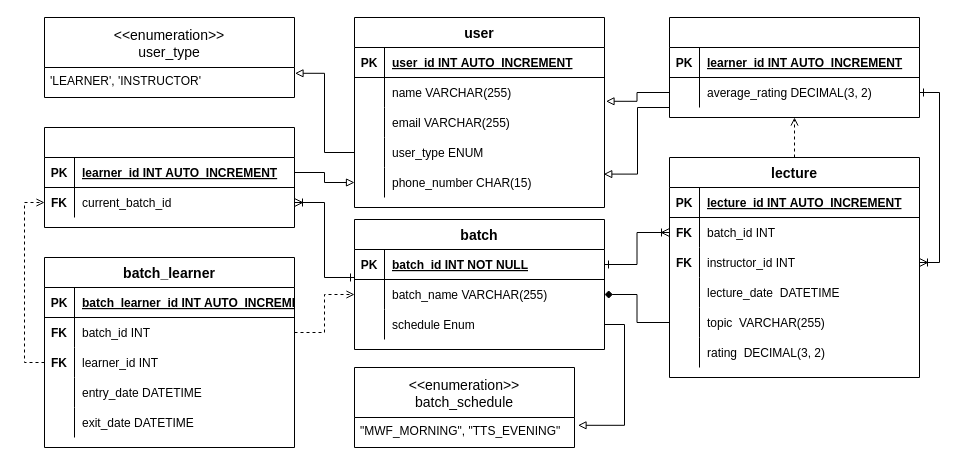
The diagram is 966 pixels wide and 468 high, and some of its shapes have lost their labels. The shapes that lost their labels are listed below. From the top down, each one's box as (x1, y1, x2, y2) in pixels, then its label:
(668, 16, 920, 118): instructor
(44, 126, 294, 228): learners
